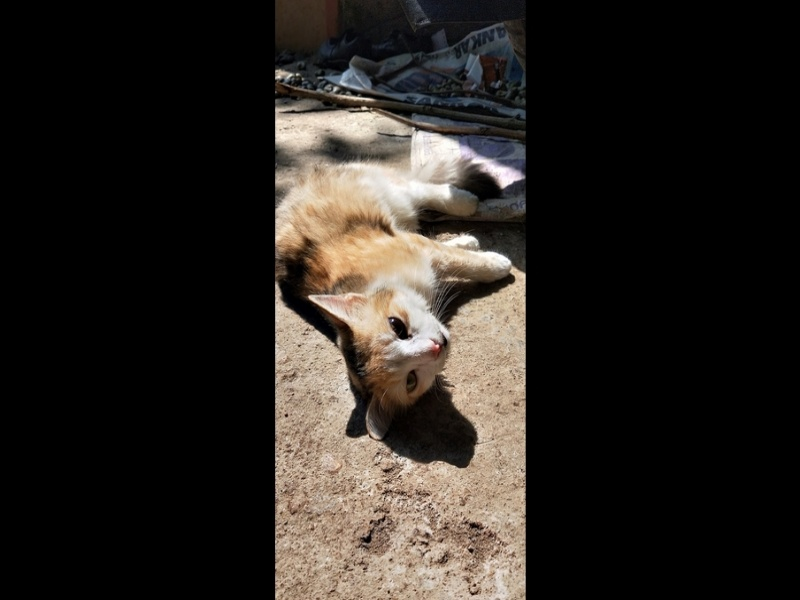cat: (278, 134, 521, 438)
